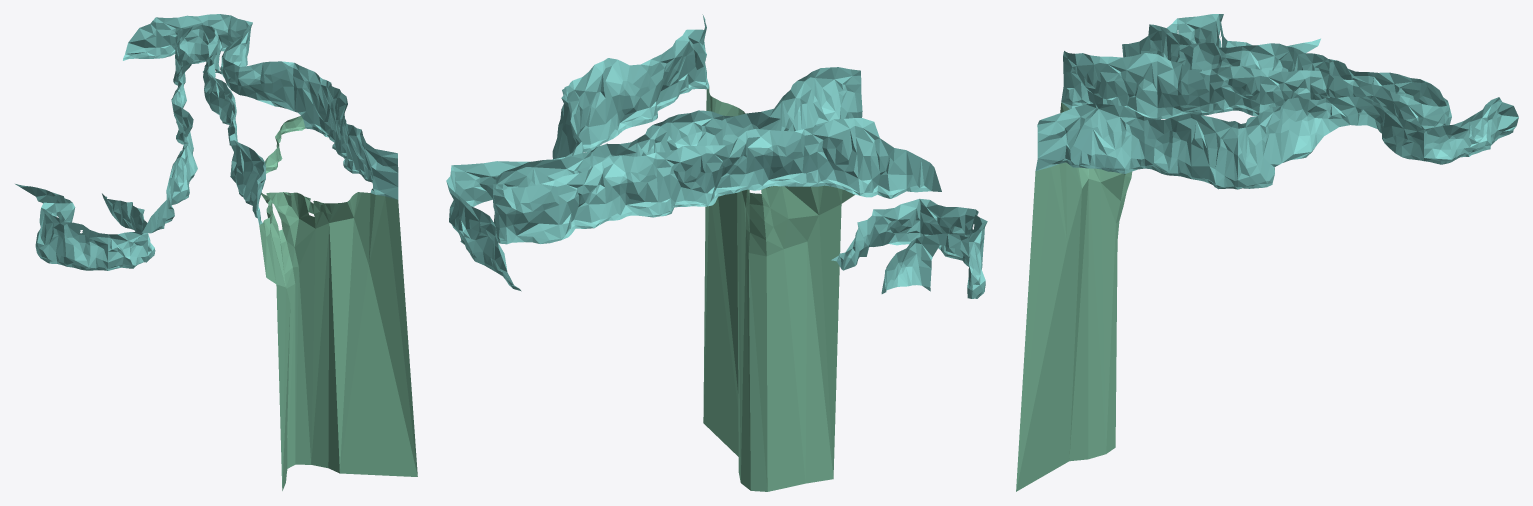
Rendered from level_collision_stone.fbx.
The picture shows the model from 3 angles, left to right: view 1: azimuth 30°, elevation 25°; view 2: azimuth 150°, elevation 25°; view 3: azimuth 270°, elevation 25°; orthographic projection. The views are drawn at different scales.
Visible parts, largest first — view 1: level_collision_stone; view 2: level_collision_stone; view 3: level_collision_stone.
Part boxes in pixels (<box>): level_collision_stone: <box>15,14,417,490</box>; level_collision_stone: <box>446,14,987,491</box>; level_collision_stone: <box>1016,14,1518,491</box>.
Size of the model in its own units: 1578512 by 1638928 by 1950265.
